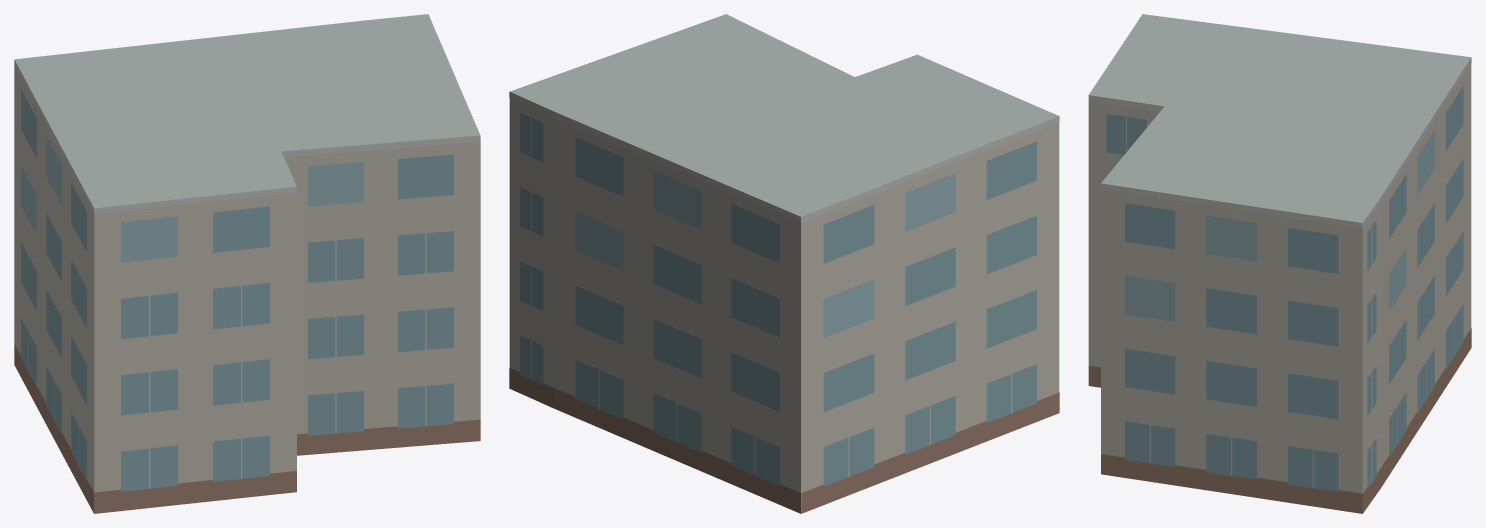
Rendered from survey-upis-32965789.glb.
3 views of the same model, side by side, from view 1: azimuth 30°, elevation 25°; view 2: azimuth 150°, elevation 25°; view 3: azimuth 270°, elevation 25° (orthographic). The views are drawn at different scales.
Parts seen in each view (by area): view 1: survey-upis-32965789.tmp; view 2: survey-upis-32965789.tmp; view 3: survey-upis-32965789.tmp.
Part boxes in pixels (left/top/right/bottom): survey-upis-32965789.tmp: left=14, top=14, right=480, bottom=513; survey-upis-32965789.tmp: left=509, top=14, right=1059, bottom=513; survey-upis-32965789.tmp: left=1088, top=14, right=1471, bottom=513.
Size of the model in its own units: 18.81 by 12.2 by 14.56.
